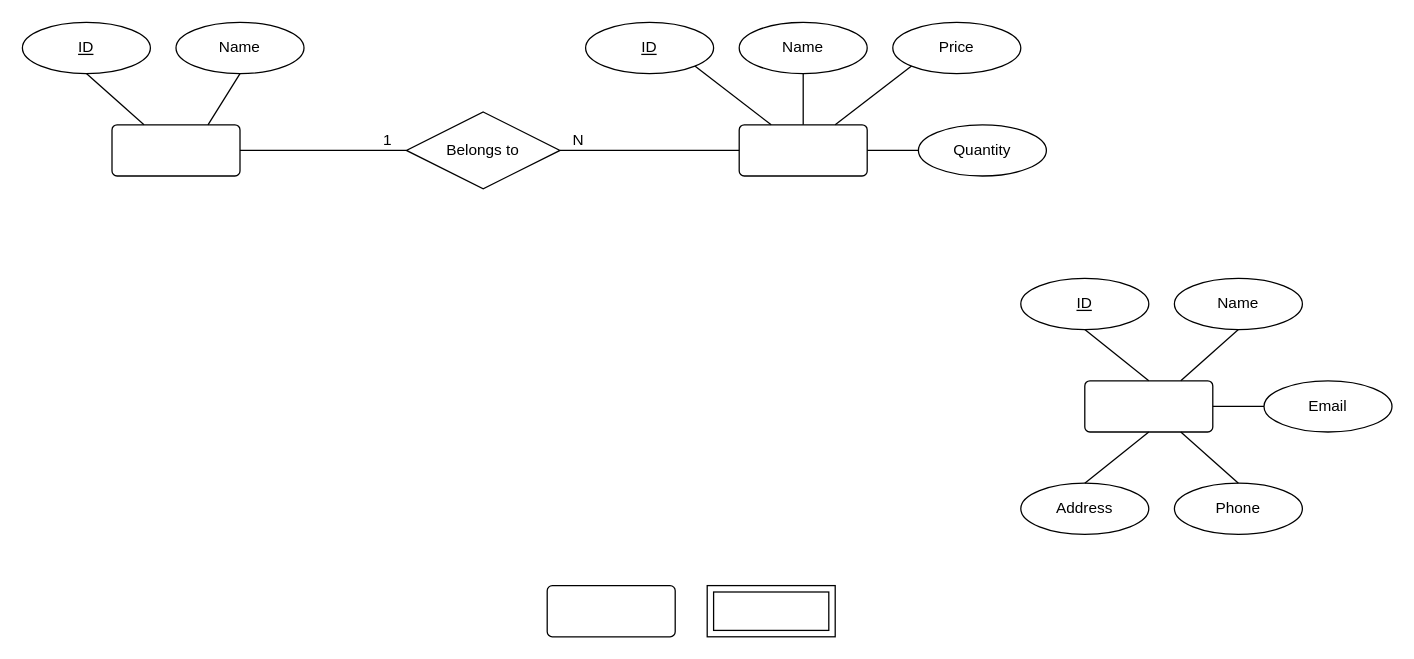
Some shapes in this 1414 by 659 pixel diagram are drawn without their labels. The centre of each missing label's shape, as x and y in pixels:
"Category" belongs at (175,150).
"Customer" belongs at (1148,406).
"Order" belongs at (610,610).
"OrderDetails" belongs at (770,610).
"Product" belongs at (802,150).
